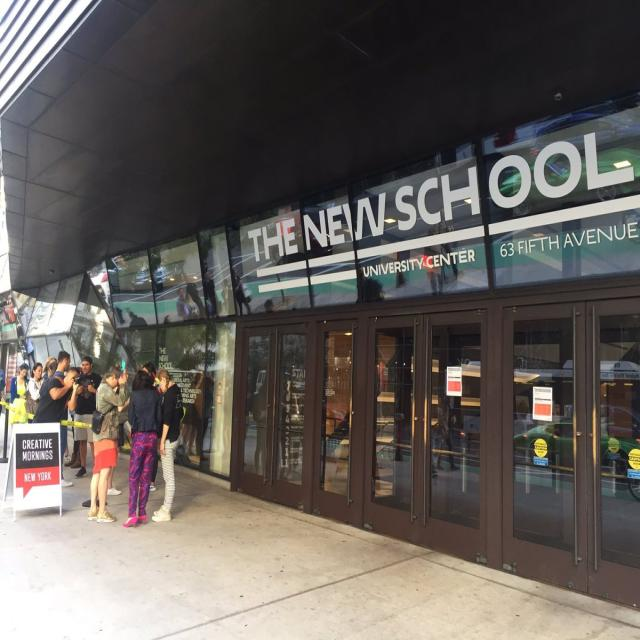body: (246, 160, 639, 518), (0, 452, 217, 525), (110, 262, 246, 331), (122, 368, 163, 530), (86, 365, 127, 525), (150, 368, 184, 524), (72, 355, 102, 480), (184, 350, 217, 451), (106, 364, 130, 497), (52, 350, 74, 488), (31, 366, 82, 424), (8, 362, 30, 424), (26, 361, 45, 424), (0, 292, 23, 342), (18, 330, 36, 365), (41, 361, 59, 394), (41, 356, 58, 386), (142, 364, 161, 390), (0, 365, 4, 420)
